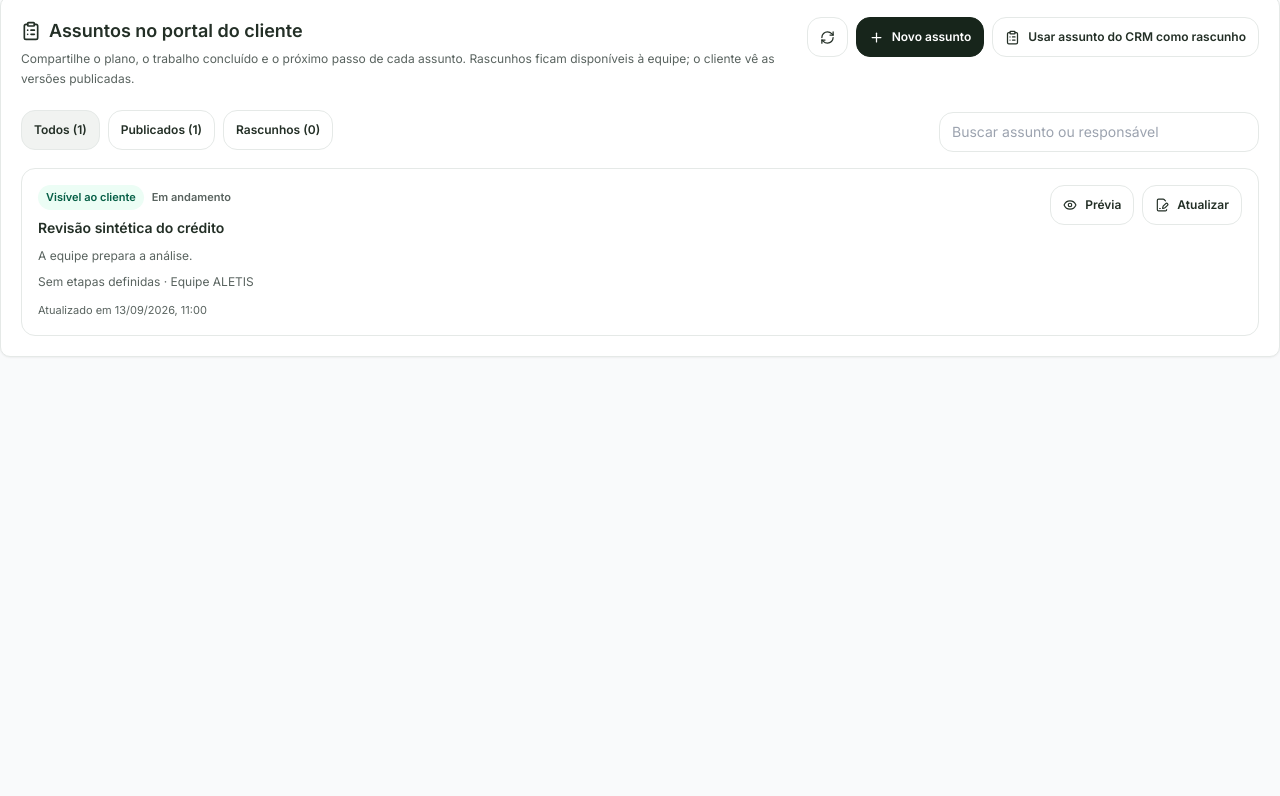
Test: Equipe: publicação consciente, conclusão real e concorrência › ignora confirmação de publicação e aborta a requisição ao trocar de cliente
The image size is (1280, 796).
What coordinates should you click on to do the following:
click the button "Atualizar"
I would click on:
 (1192, 205)
Its box is [1142,185,1242,225].
(page scrolled)
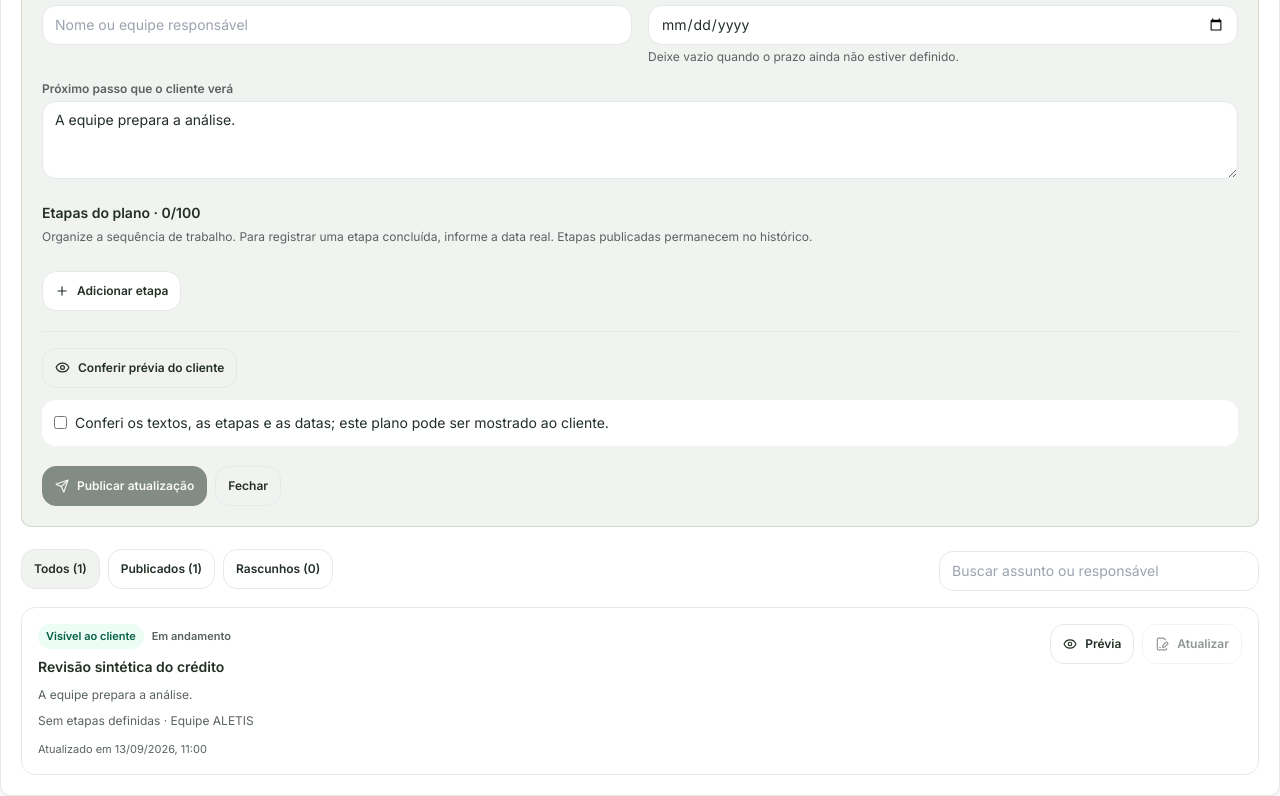
What coordinates should you click on to do the following:
click the checkbox
I would click on:
 (60, 422)
Its box is [54,416,67,429].
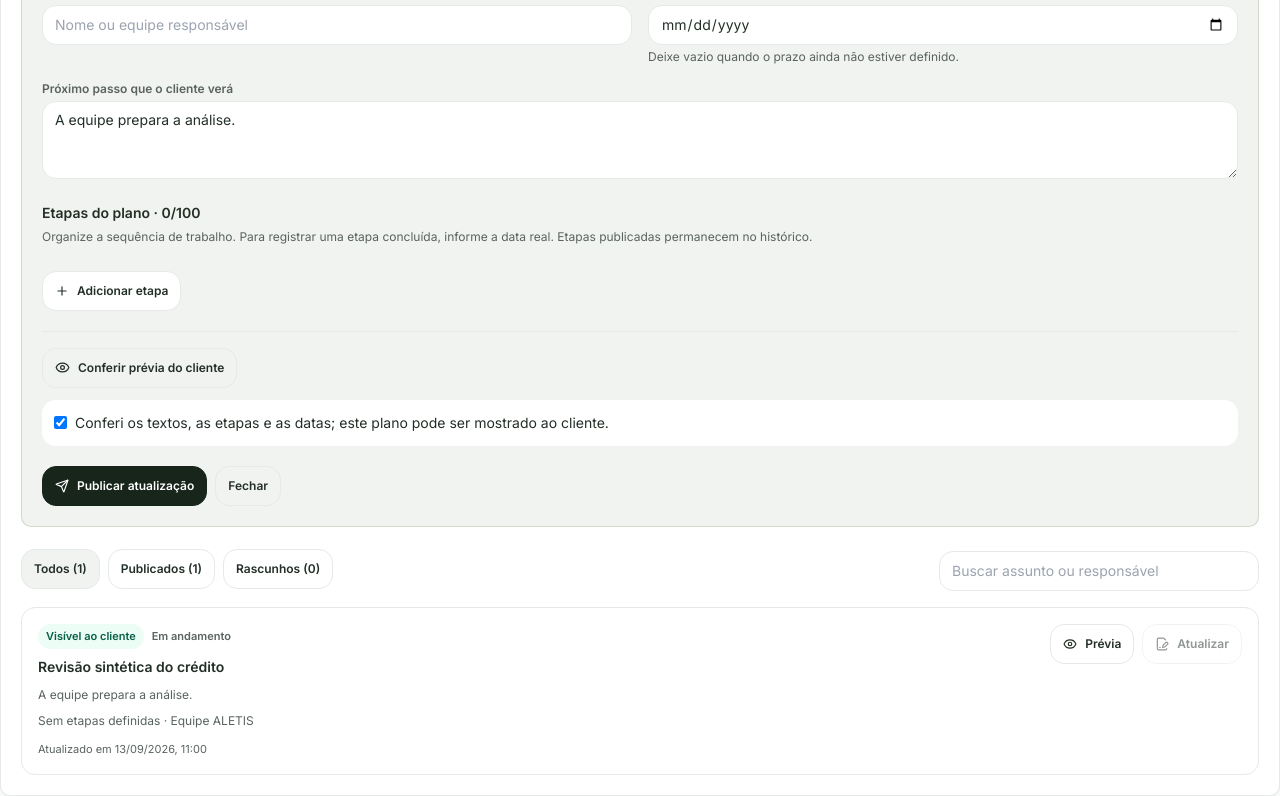
What coordinates should you click on to do the following:
click the button "Publicar atualização"
I would click on:
 (125, 486)
Its box is [42,466,207,506].
(page scrolled)
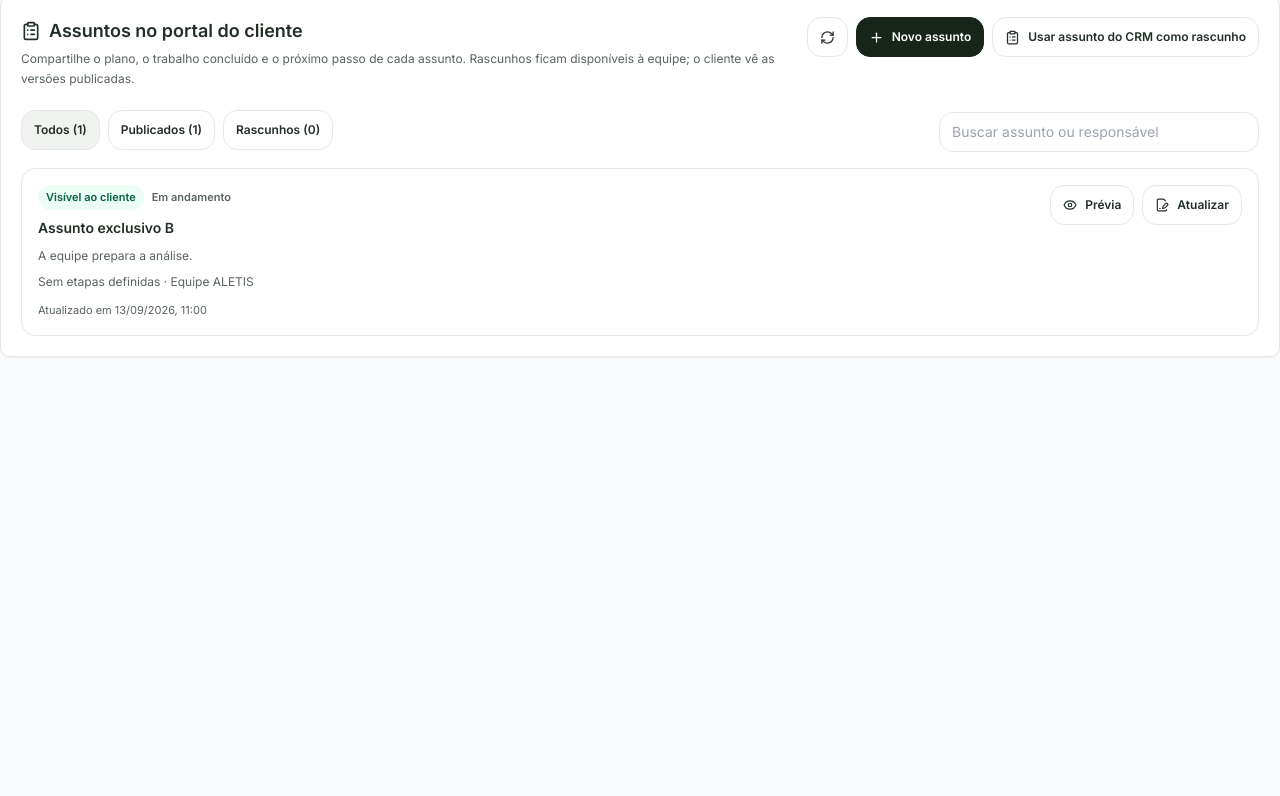
Check: the text "Assunto exclusivo B" is shown, box [38,219,174,236]
